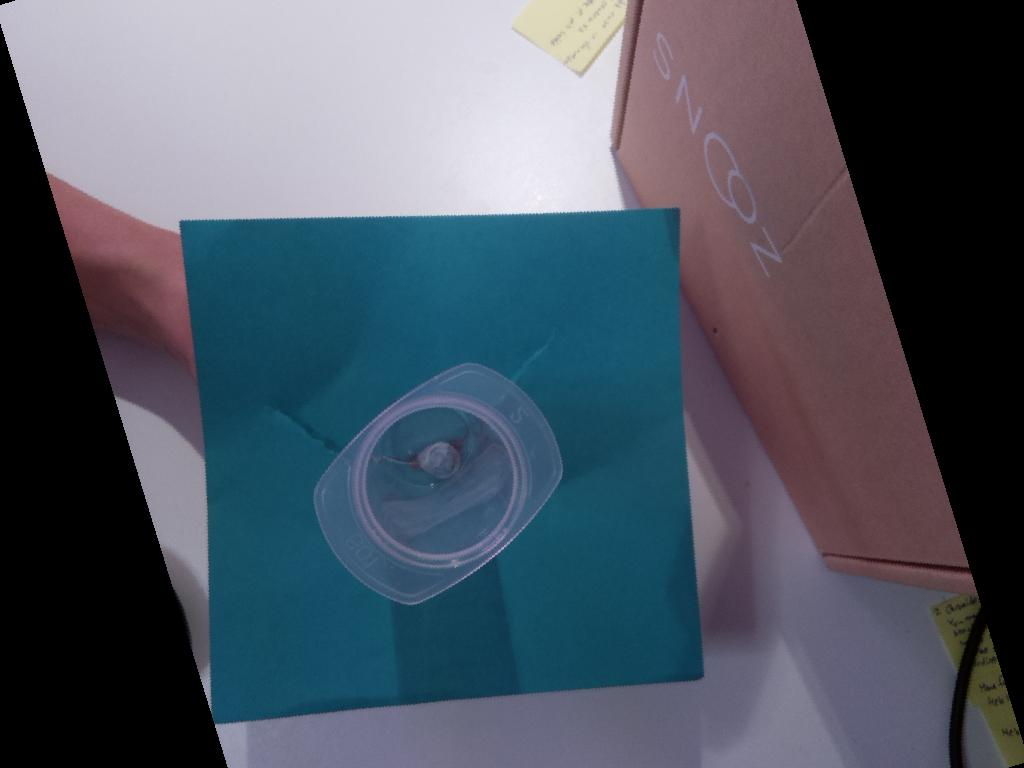clean: (314, 364, 564, 606)
